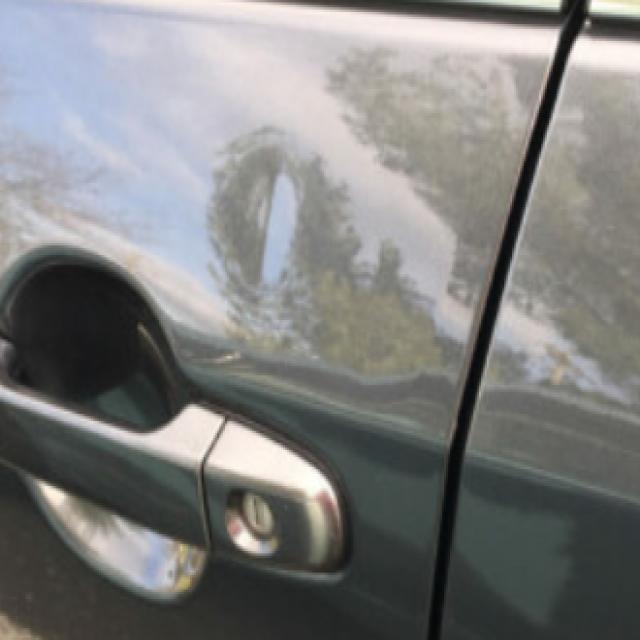dents: (221, 154, 311, 304)
